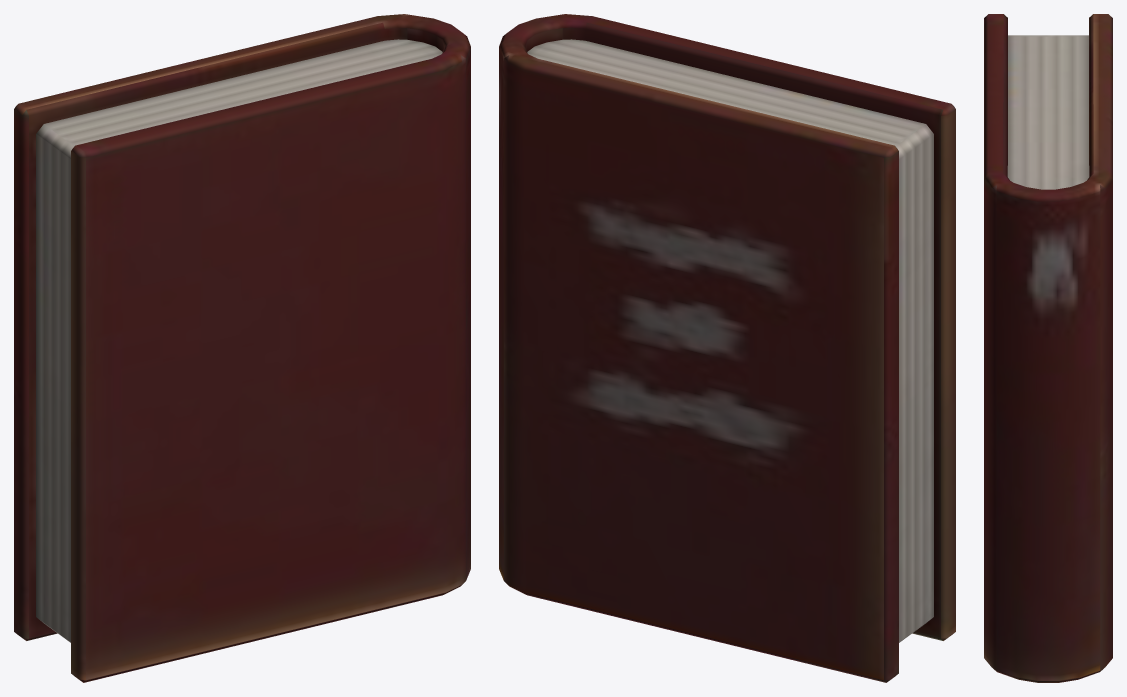
Rendered from SM_Book001_01.glb.
3 views of the same model, side by side, from view 1: azimuth 30°, elevation 25°; view 2: azimuth 150°, elevation 25°; view 3: azimuth 270°, elevation 25° (orthographic). The views are drawn at different scales.
Parts seen in each view (by area): view 1: SM_Book001_01; view 2: SM_Book001_01; view 3: SM_Book001_01.
Part boxes in pixels (box(x1,y1,x2,y2)): SM_Book001_01: box(14, 14, 470, 682); SM_Book001_01: box(499, 14, 955, 682); SM_Book001_01: box(984, 14, 1112, 682).
Bounding box in the file's own units: 0.3111 × 0.3812 × 0.0912.
Materials: 1 (1 with a texture image).
